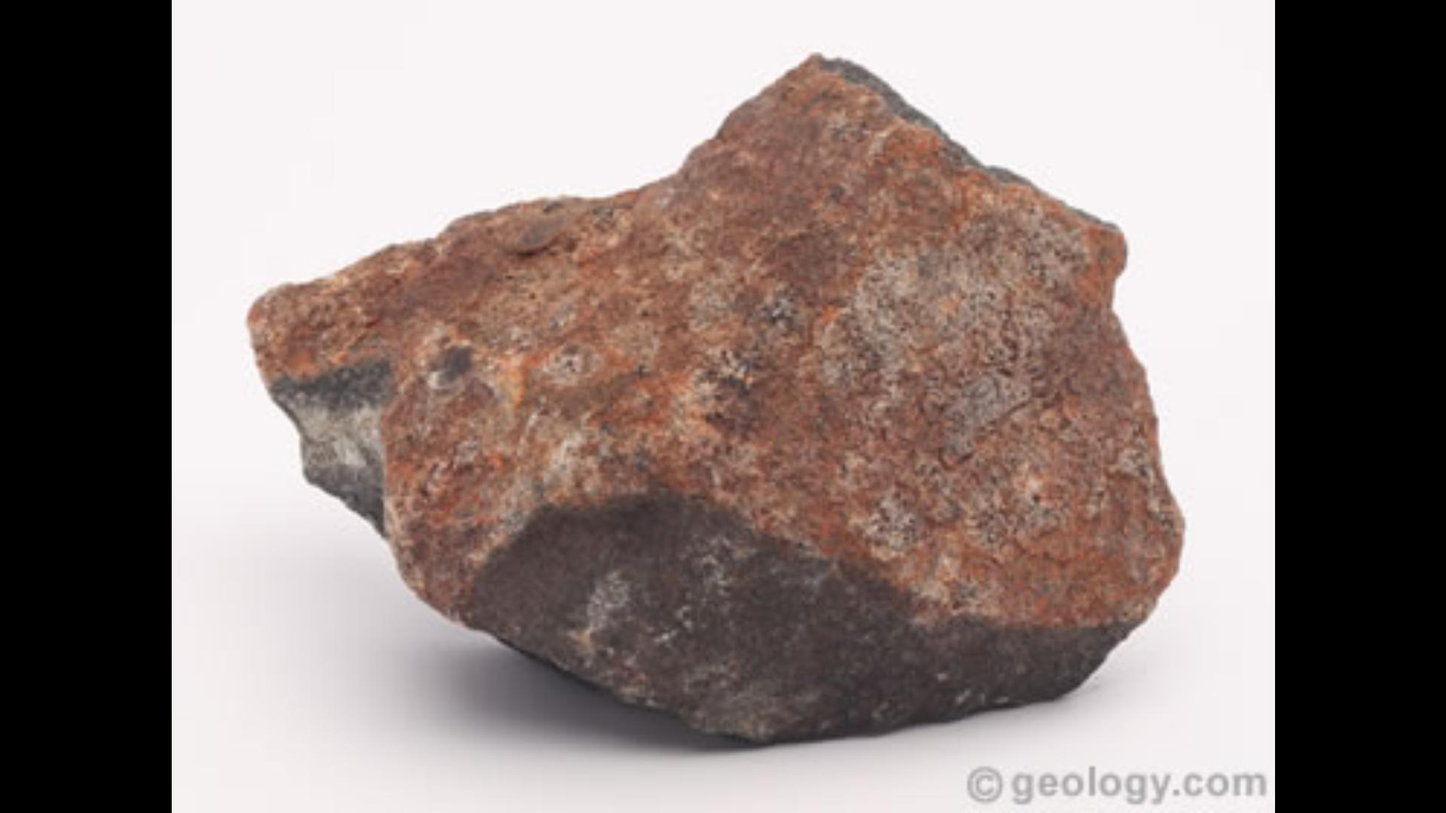rock: (252, 61, 1179, 738)
